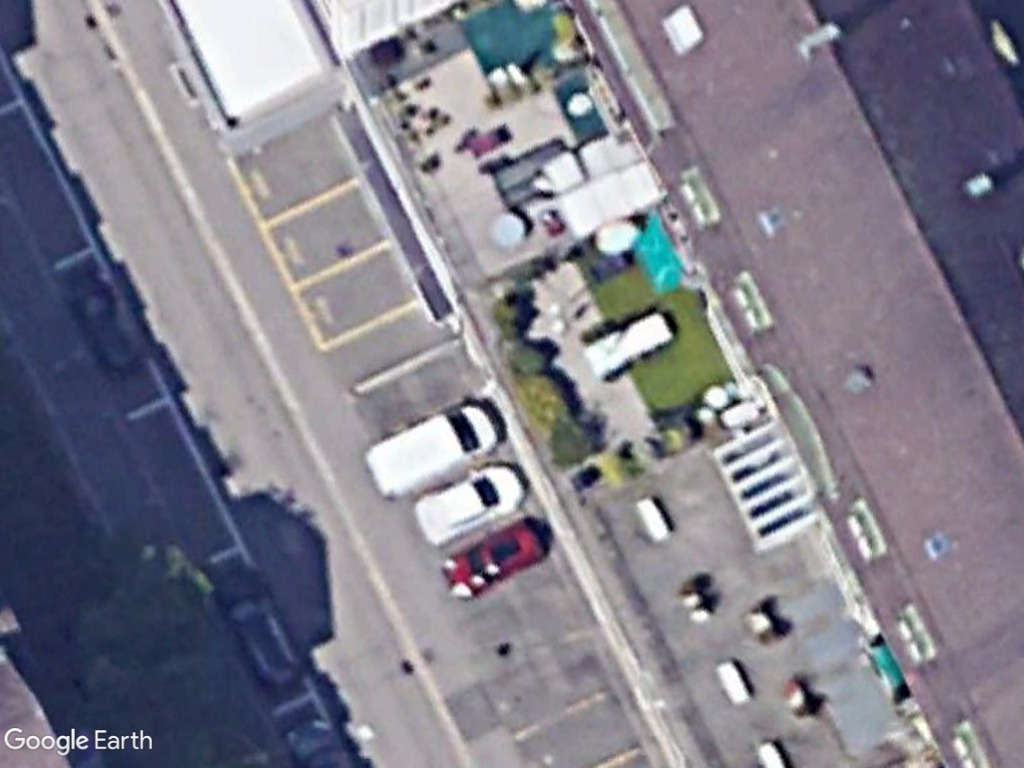car: (411, 463, 528, 547), (437, 519, 550, 605)
van: (361, 399, 498, 506)
